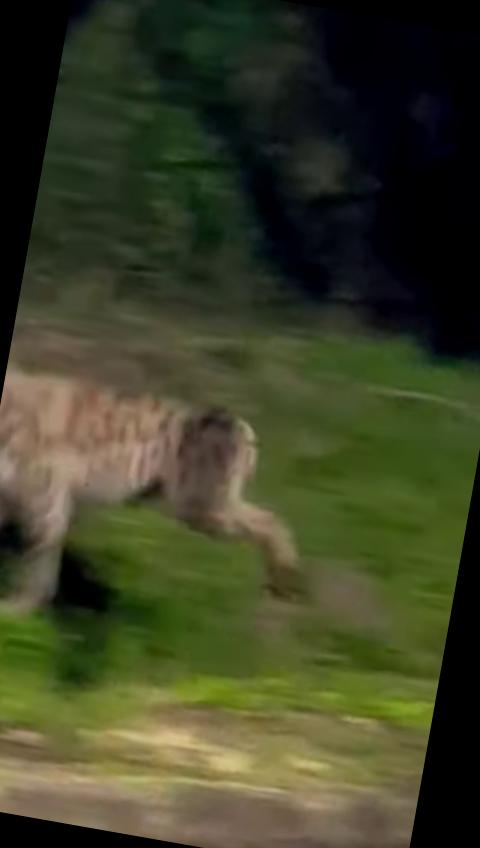hyenas: (0, 312, 357, 740)
